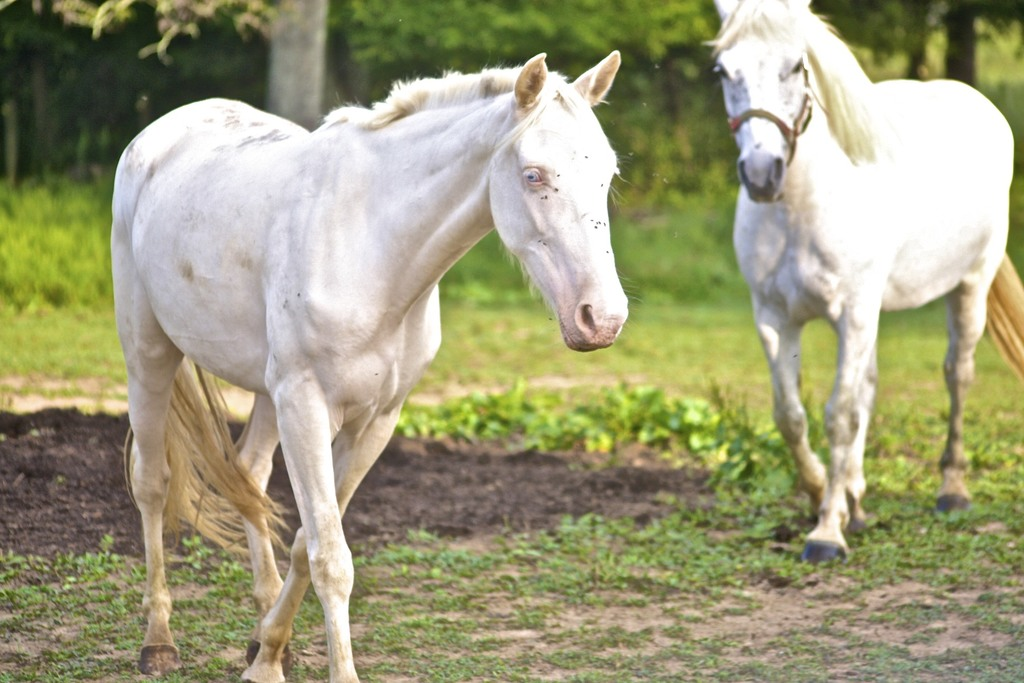horse: (110, 48, 621, 682)
